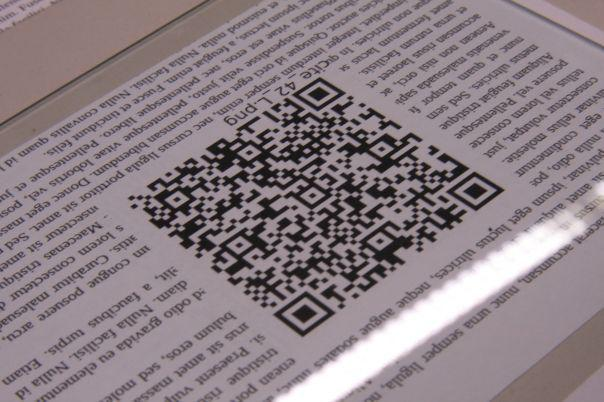Finder pattern: (271, 291, 336, 339), (446, 169, 505, 210), (293, 79, 347, 109)
